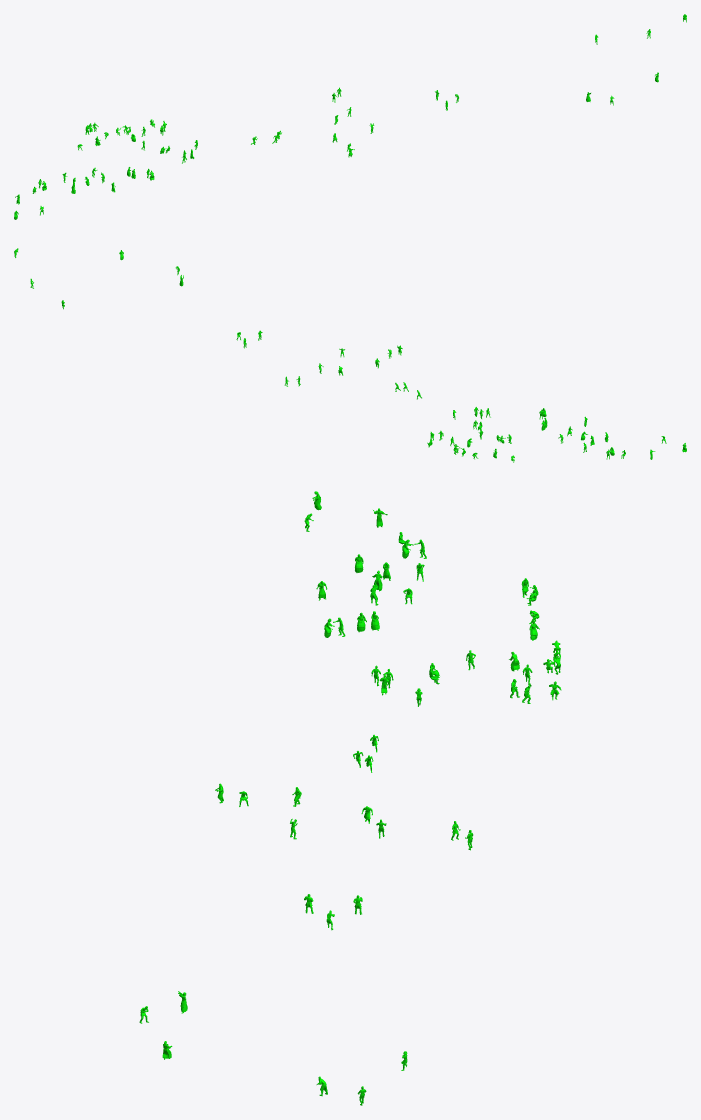
File: SM_People_Town.fbx
3 renders of one model, top to bottom at view 1: azimuth 30°, elevation 25°; view 2: azimuth 150°, elevation 25°; view 3: azimuth 270°, elevation 25°, orthographic. The views are drawn at different scales.
Visible parts, largest first — view 1: SM_People_Town; view 2: SM_People_Town; view 3: SM_People_Town.
Part boxes in pixels (left/top/right/bottom): SM_People_Town: left=14, top=14, right=686, bottom=219; SM_People_Town: left=14, top=248, right=686, bottom=462; SM_People_Town: left=139, top=491, right=561, bottom=1105.
Size of the model in its own units: 131 by 7.77 by 35.62.
